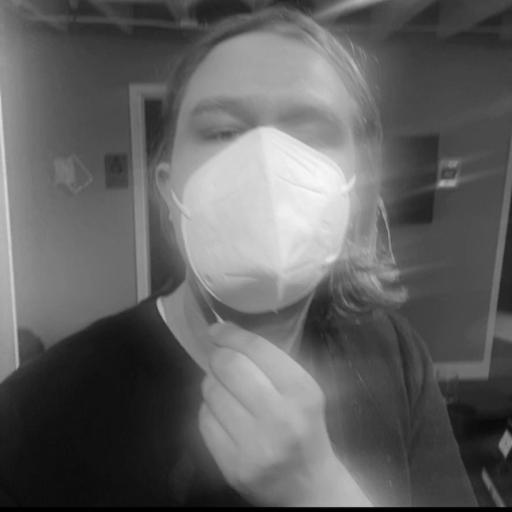mask: (124, 18, 421, 348)
